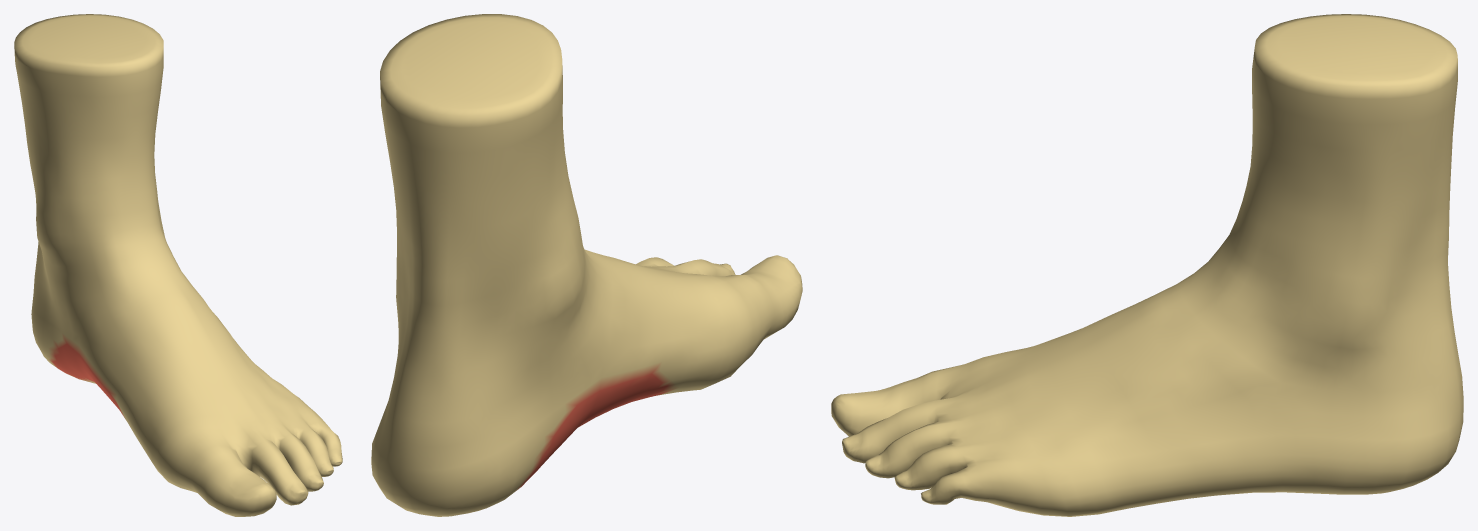
Rendered from Leftfoot.gltf.
The picture shows the model from 3 angles, left to right: view 1: azimuth 30°, elevation 25°; view 2: azimuth 150°, elevation 25°; view 3: azimuth 270°, elevation 25°; orthographic projection. The views are drawn at different scales.
Visible parts, largest first — view 1: Foot - Left; view 2: Foot - Left; view 3: Foot - Left.
Boxes of the visible parts, box(x1,y1,x2,y2) form: Foot - Left: box(14, 14, 342, 516); Foot - Left: box(371, 14, 802, 516); Foot - Left: box(831, 14, 1463, 516).
Bounding box in the file's own units: 0.0912 × 0.1781 × 0.2359.
